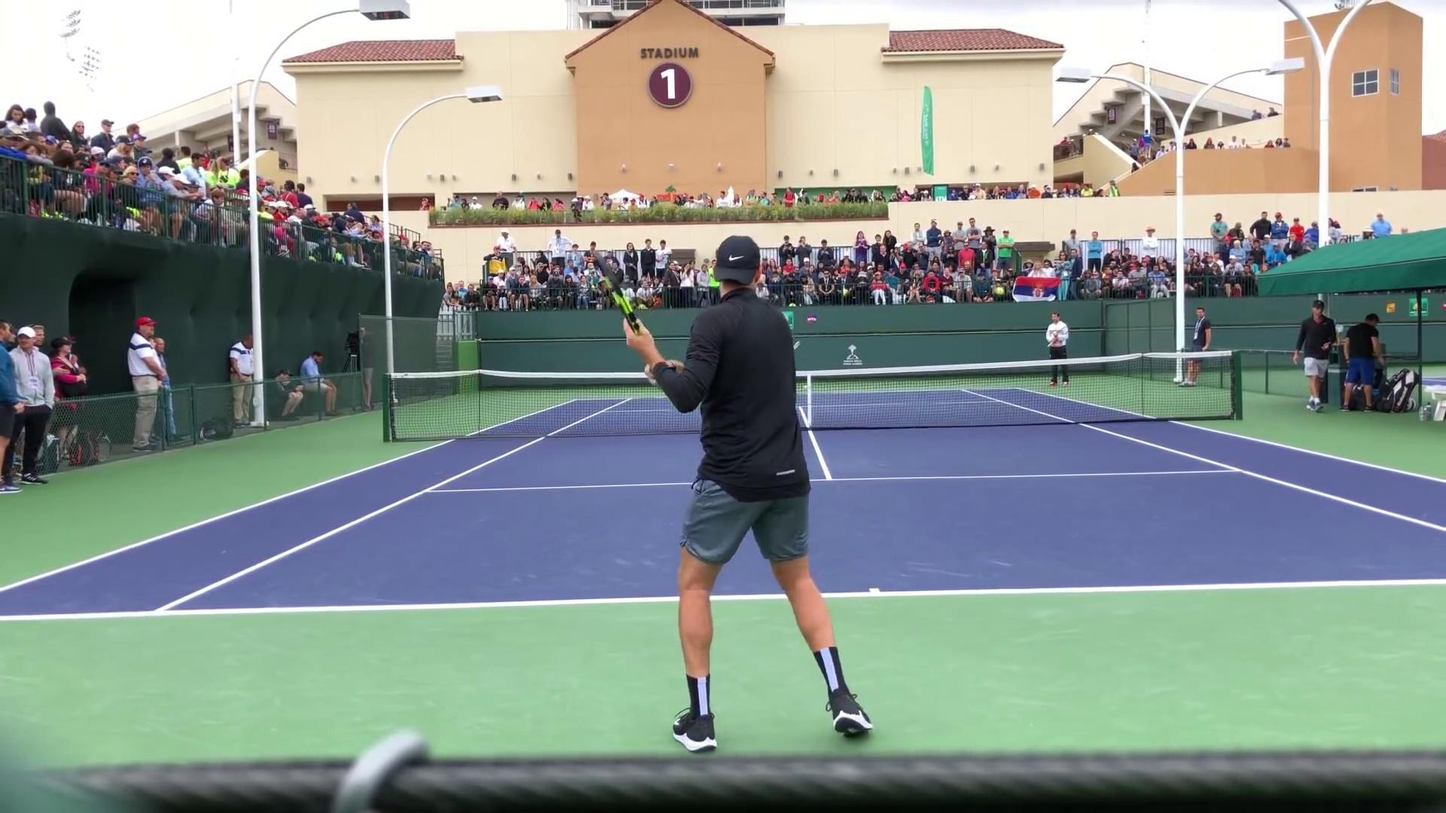ball: (802, 384, 809, 389)
